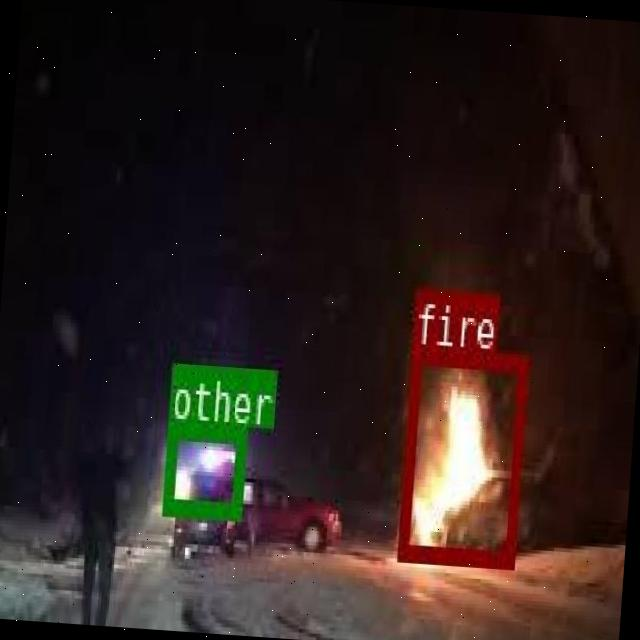fire: (396, 346, 526, 566)
